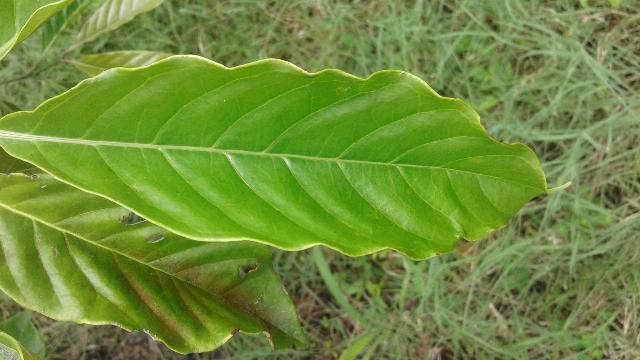healthy: (0, 49, 581, 262)
